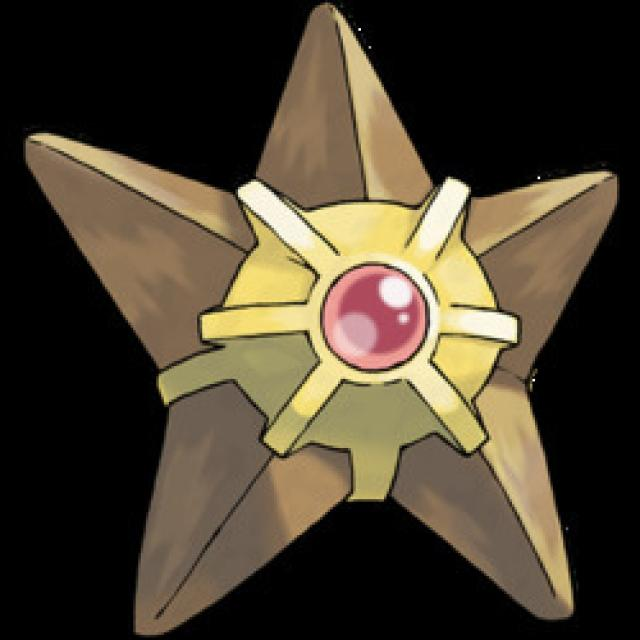Staryu: (28, 0, 622, 634)
